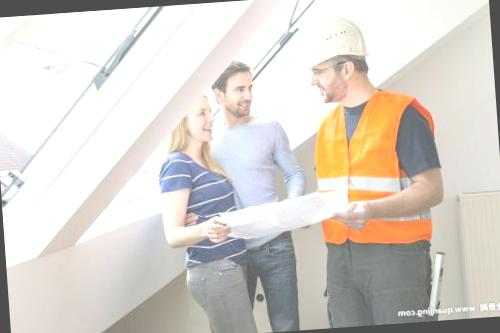no_helmet: (210, 56, 258, 124), (167, 91, 216, 154)
